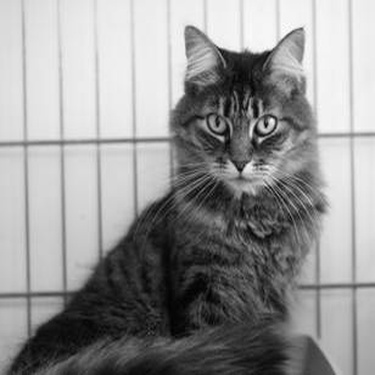cat: (23, 16, 330, 367)
